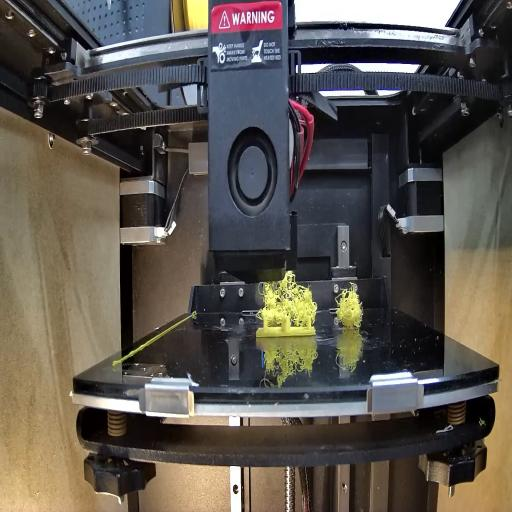spaghetti: (257, 271, 318, 322), (331, 282, 366, 330)
